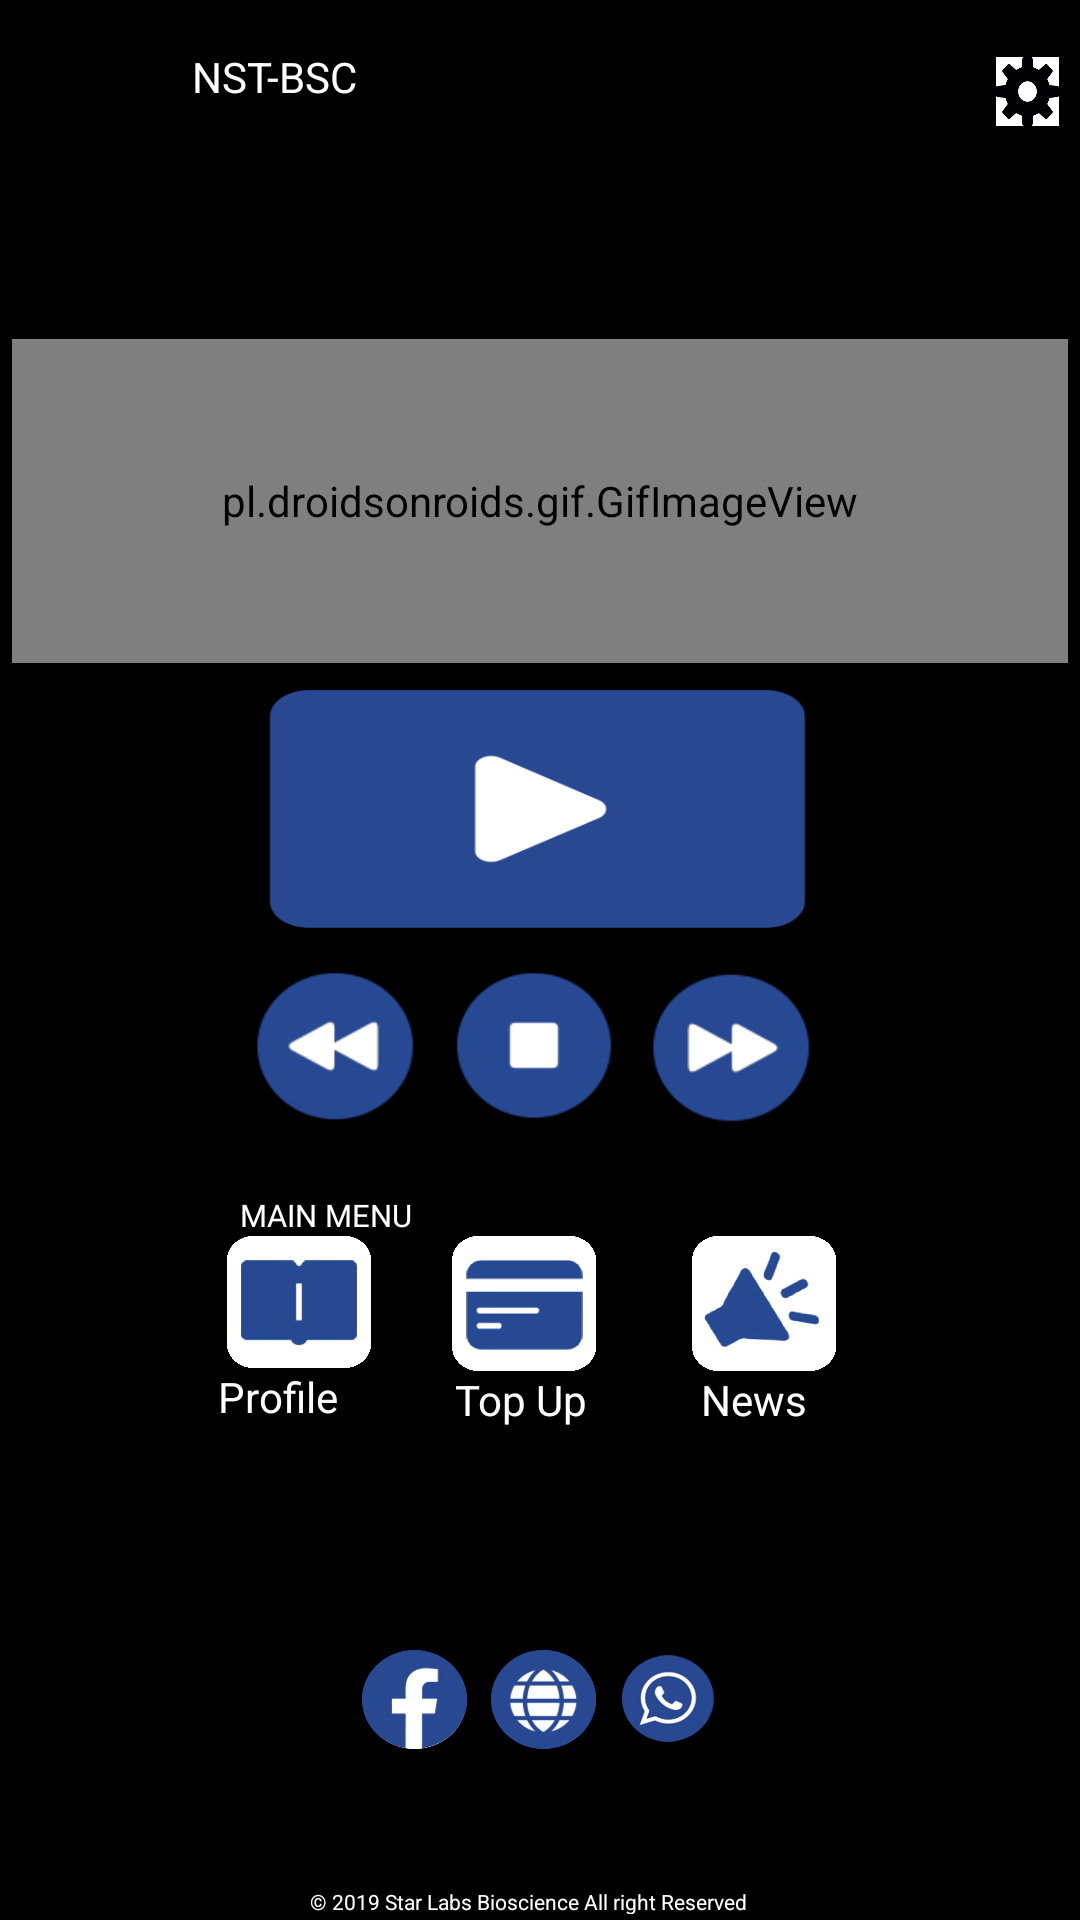

Screen size 1080w x 1920h. Icon name, then its center in pixels as [x,y]:
book: [299,1302]
forward: [731,1047]
gear: [1027,91]
previous: [335,1046]
speaker: [764,1303]
stop: [534,1045]
web: [543,1699]
